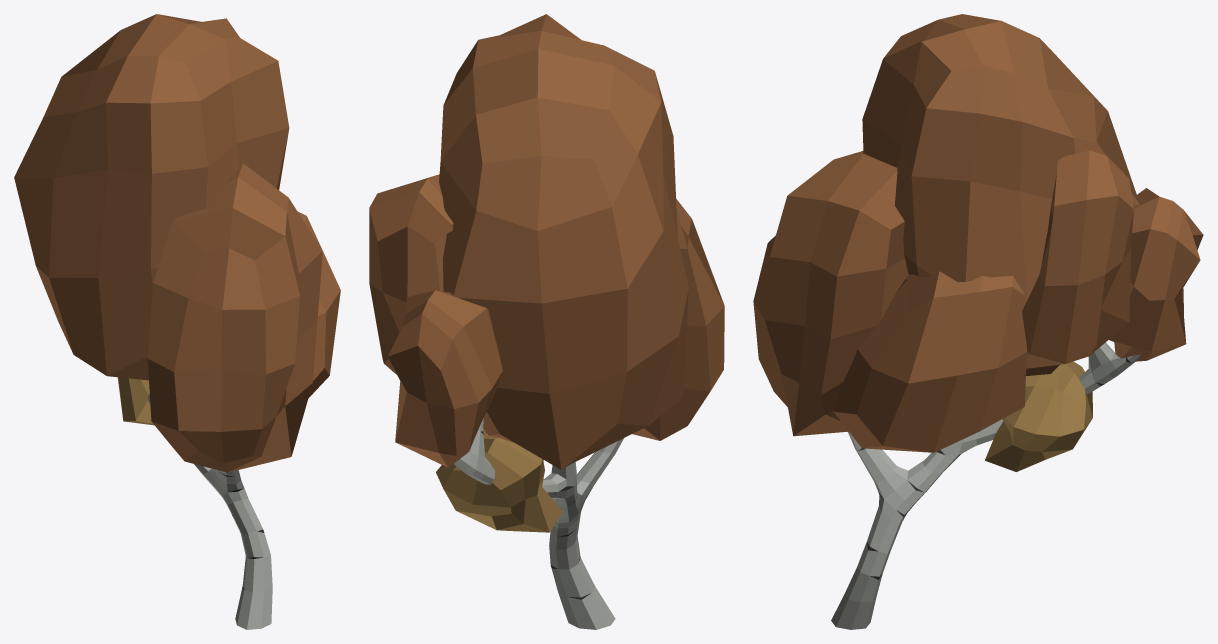
The model's file is BirchTree_Autumn_1.glb.
3 views of the same model, side by side, from view 1: azimuth 30°, elevation 25°; view 2: azimuth 150°, elevation 25°; view 3: azimuth 270°, elevation 25° (orthographic). The views are drawn at different scales.
Parts seen in each view (by area): view 1: BirchTree_Autumn_1; view 2: BirchTree_Autumn_1; view 3: BirchTree_Autumn_1.
Boxes of the visible parts, left/top/right/bottom form: BirchTree_Autumn_1: left=14, top=14, right=340, bottom=629; BirchTree_Autumn_1: left=369, top=14, right=724, bottom=629; BirchTree_Autumn_1: left=753, top=14, right=1203, bottom=629.
Bounding box in the file's own units: 1.7 × 3.57 × 2.48.
